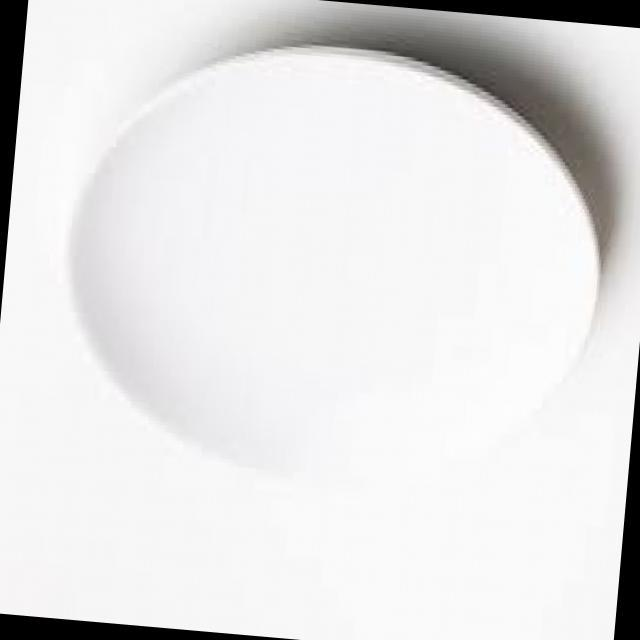plate: (41, 9, 632, 519)
